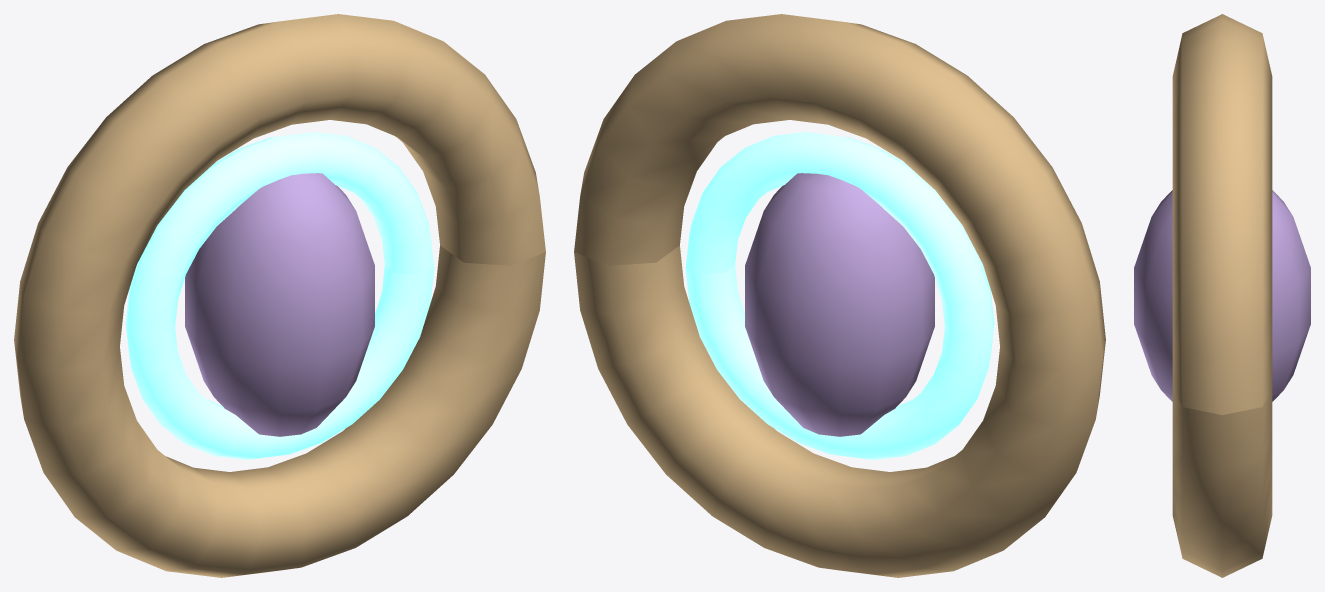
The model's file is pick_gold_chord.glb.
The picture shows the model from 3 angles, left to right: view 1: azimuth 30°, elevation 25°; view 2: azimuth 150°, elevation 25°; view 3: azimuth 270°, elevation 25°; orthographic projection. The views are drawn at different scales.
Visible parts, largest first — view 1: PICK_gold_chord_chordloop, PICK_gold_chord_gem, PICK_gold_chord_middle; view 2: PICK_gold_chord_chordloop, PICK_gold_chord_gem, PICK_gold_chord_middle; view 3: PICK_gold_chord_chordloop, PICK_gold_chord_gem.
Boxes of the visible parts, x1,y1,x2,y2 form: PICK_gold_chord_chordloop: (14,14,545,577); PICK_gold_chord_gem: (185,173,374,436); PICK_gold_chord_middle: (125,132,434,459); PICK_gold_chord_chordloop: (574,14,1105,577); PICK_gold_chord_gem: (745,173,934,436); PICK_gold_chord_middle: (685,132,994,459); PICK_gold_chord_chordloop: (1172,14,1272,577); PICK_gold_chord_gem: (1134,190,1310,401).
Size of the model in its own units: 0.684 by 0.684 by 0.2145.
